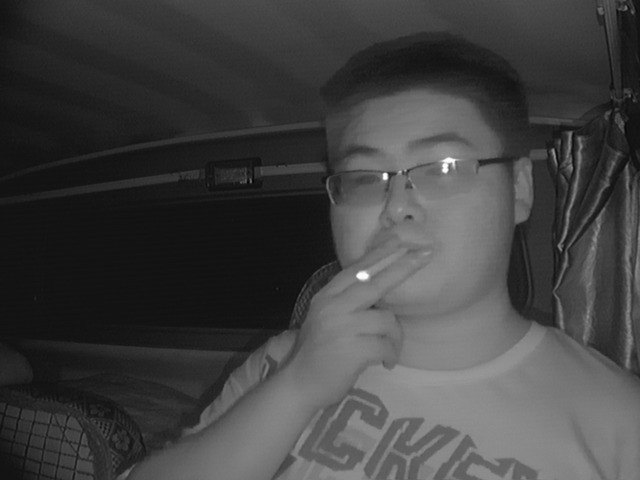hand: (310, 233, 433, 366)
